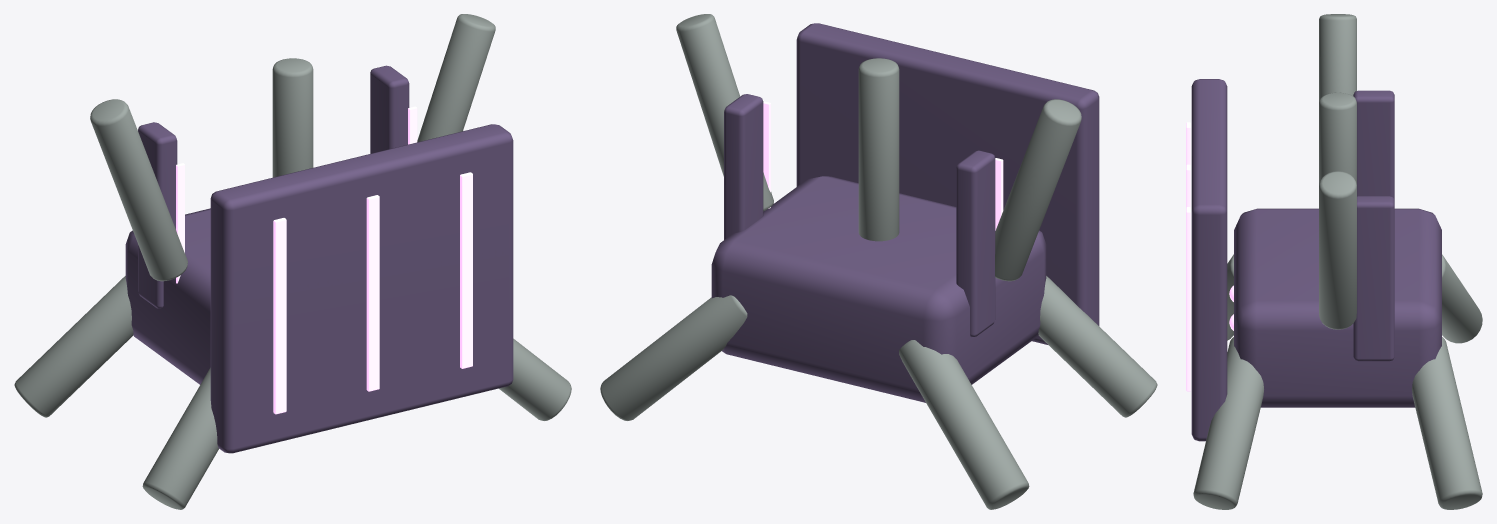
File: card_p4_boss.glb
The picture shows the model from 3 angles, left to right: view 1: azimuth 30°, elevation 25°; view 2: azimuth 150°, elevation 25°; view 3: azimuth 270°, elevation 25°; orthographic projection. The views are drawn at different scales.
Visible parts, largest first — view 1: card_p4_boss; view 2: card_p4_boss; view 3: card_p4_boss.
Boxes of the visible parts, x1,y1,x2,y2 form: card_p4_boss: (14, 14, 571, 509); card_p4_boss: (600, 14, 1157, 509); card_p4_boss: (1186, 14, 1482, 509).
Bounding box in the file's own units: 2.4 × 1.94 × 1.57.
